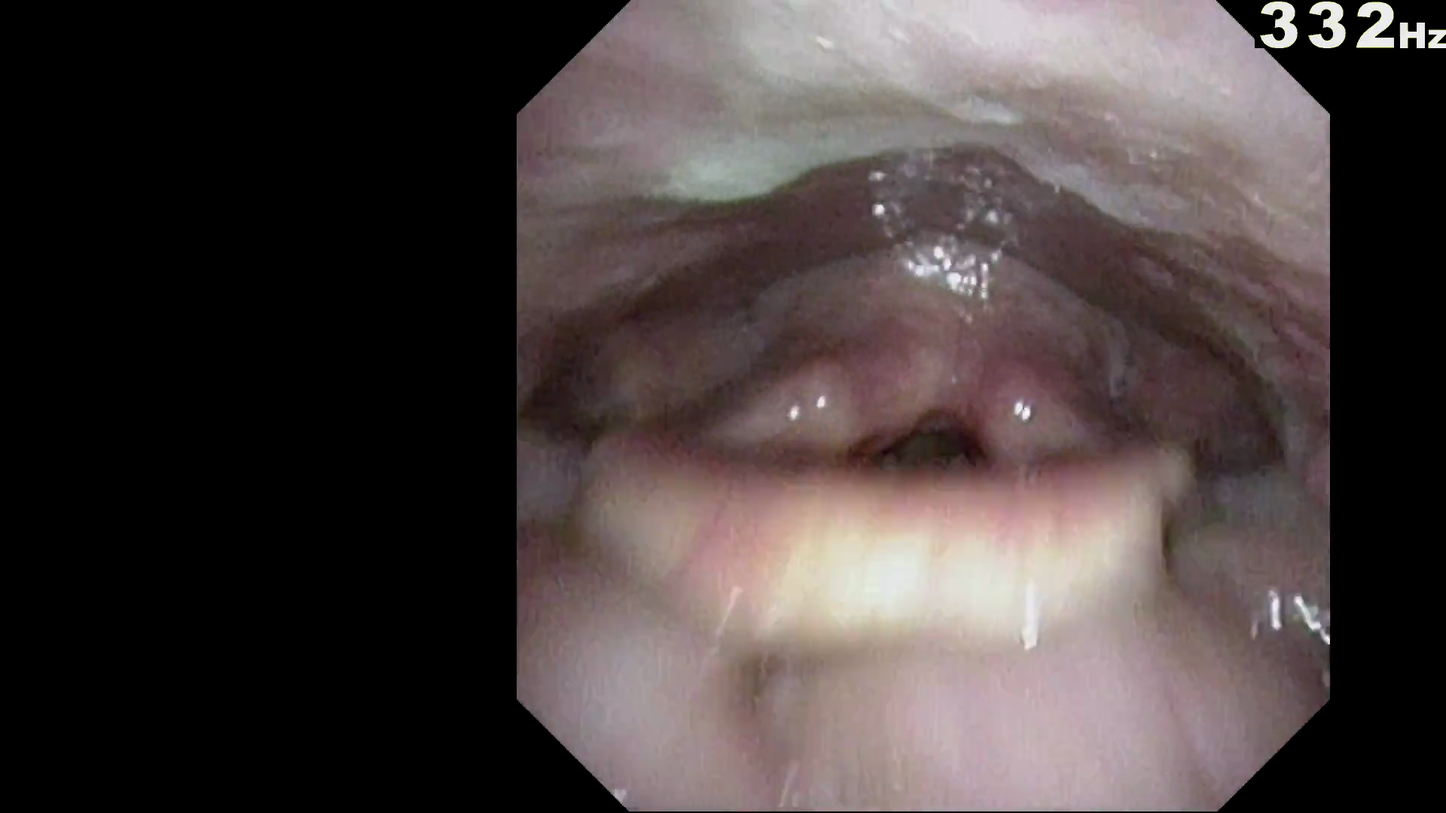epiglottis: (584, 474, 1196, 634)
trachea: (845, 414, 1005, 486)
